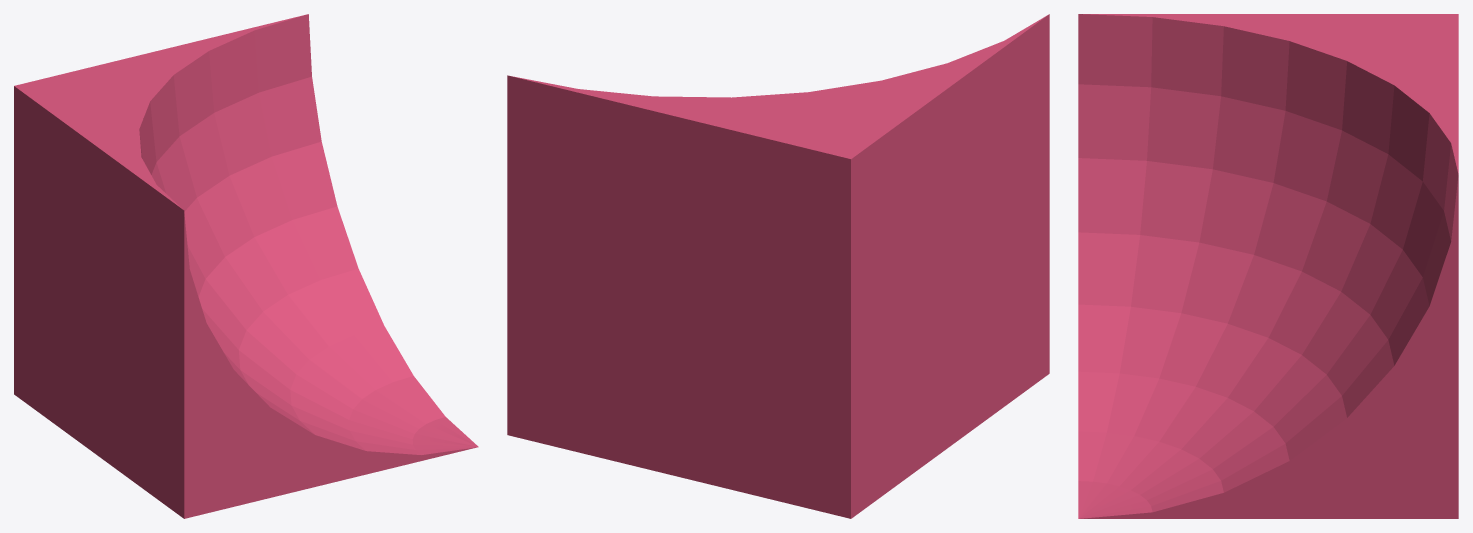
Rendered from r4c2_body_pink.gltf.
The picture shows the model from 3 angles, left to right: view 1: azimuth 30°, elevation 25°; view 2: azimuth 150°, elevation 25°; view 3: azimuth 270°, elevation 25°; orthographic projection. The views are drawn at different scales.
Visible parts, largest first — view 1: r4c2_body_pink; view 2: r4c2_body_pink; view 3: r4c2_body_pink.
Part boxes in pixels (x1=…): r4c2_body_pink: x1=14, y1=14, x2=478, y2=518; r4c2_body_pink: x1=507, y1=14, x2=1049, y2=518; r4c2_body_pink: x1=1078, y1=14, x2=1458, y2=518.
Size of what is drawn, in the model's own units: 2 by 2 by 2.
1 material, 1 textured.
